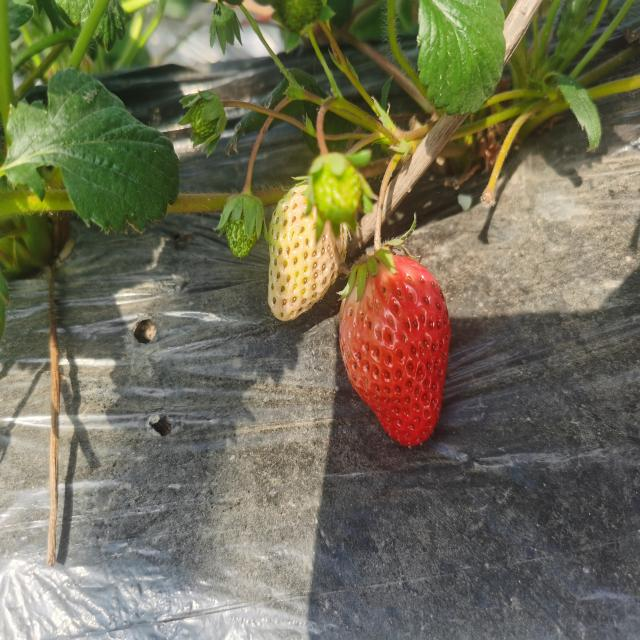stem: (374, 194, 385, 253)
strawberry: (339, 252, 450, 445)
